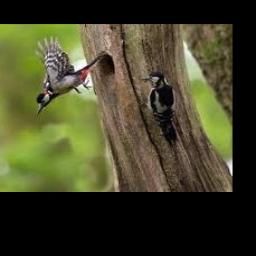Woodpecker: (36, 36, 101, 113), (140, 71, 177, 145)
